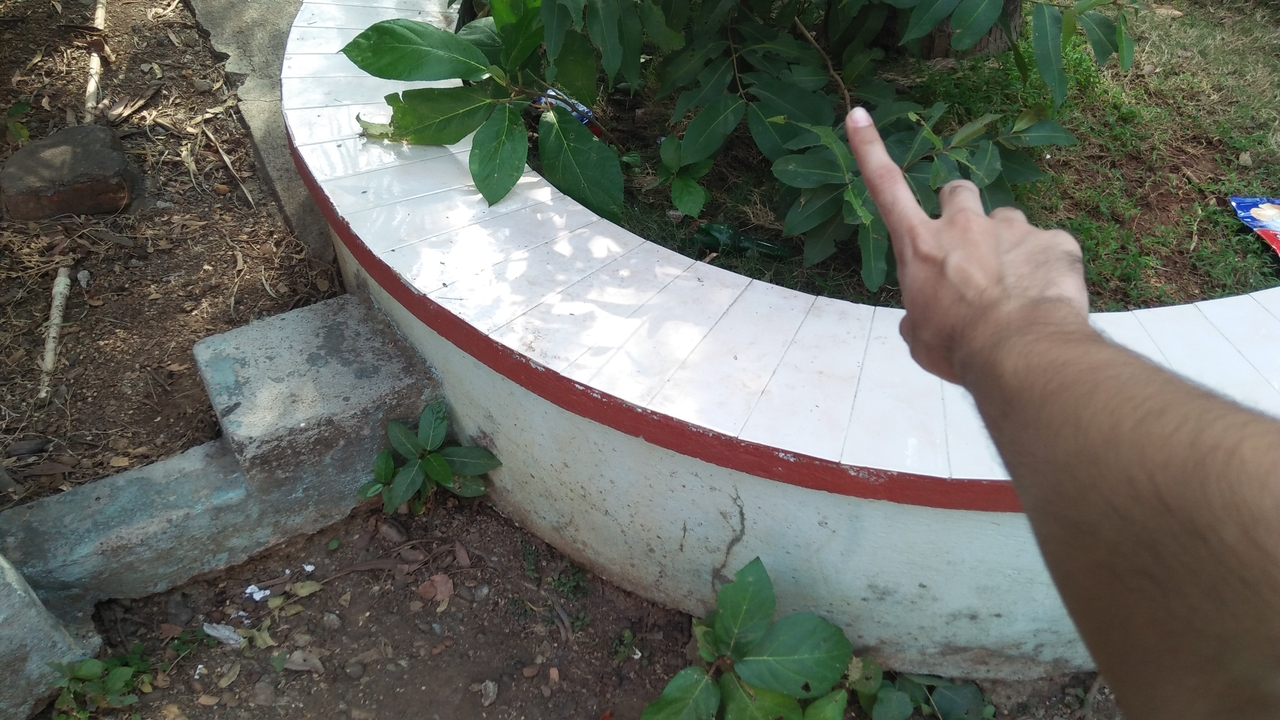fingertip: (838, 92, 890, 140)
